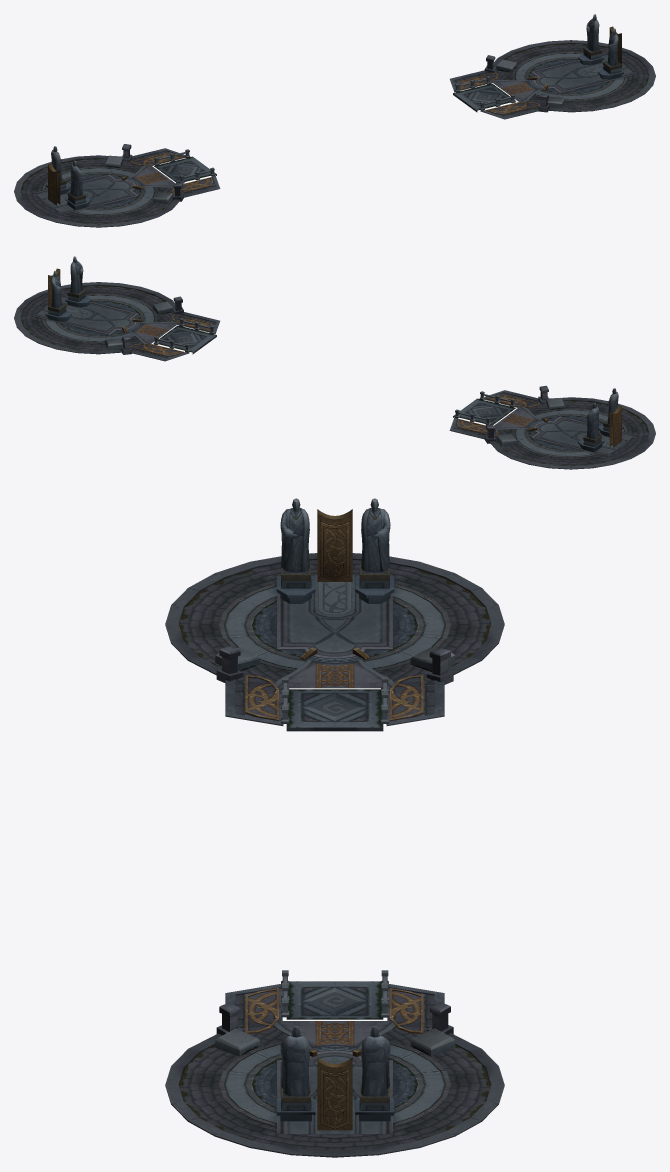
Rendered from qiao_01.fbx.
The picture shows the model from 3 angles, top to bottom: view 1: azimuth 30°, elevation 25°; view 2: azimuth 150°, elevation 25°; view 3: azimuth 270°, elevation 25°; orthographic projection. The views are drawn at different scales.
Visible parts, largest first — view 1: qiao_01; view 2: qiao_01; view 3: qiao_01.
Part boxes in pixels (x1=…): qiao_01: x1=14, y1=14, x2=655, y2=227; qiao_01: x1=14, y1=256, x2=655, y2=469; qiao_01: x1=165, y1=498, x2=504, y2=1157.
Size of the model in its own units: 17188 by 1273 by 4079.
